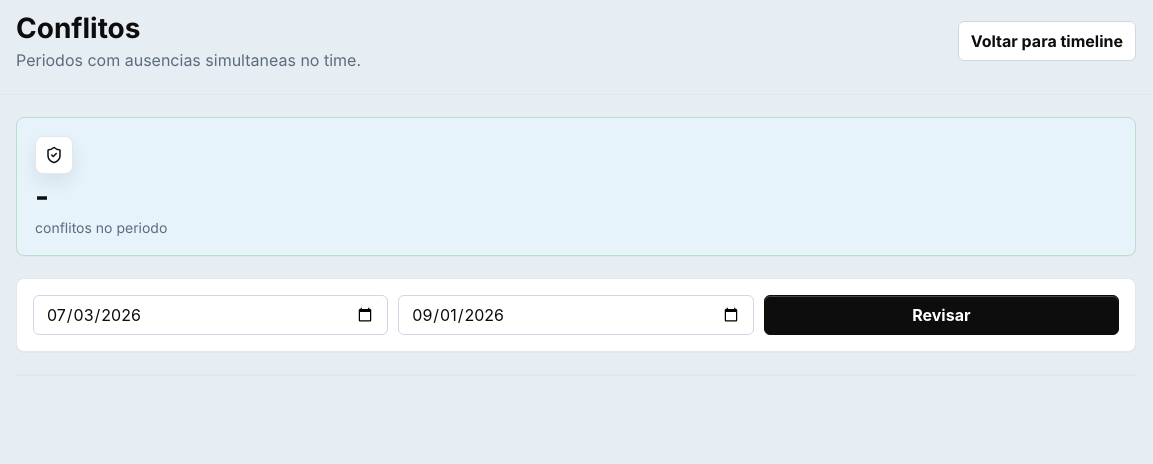
Test: conflicts flow › loads conflict summary states
Click the button "Revisar" at (941, 315), box [764,295,1119,335]
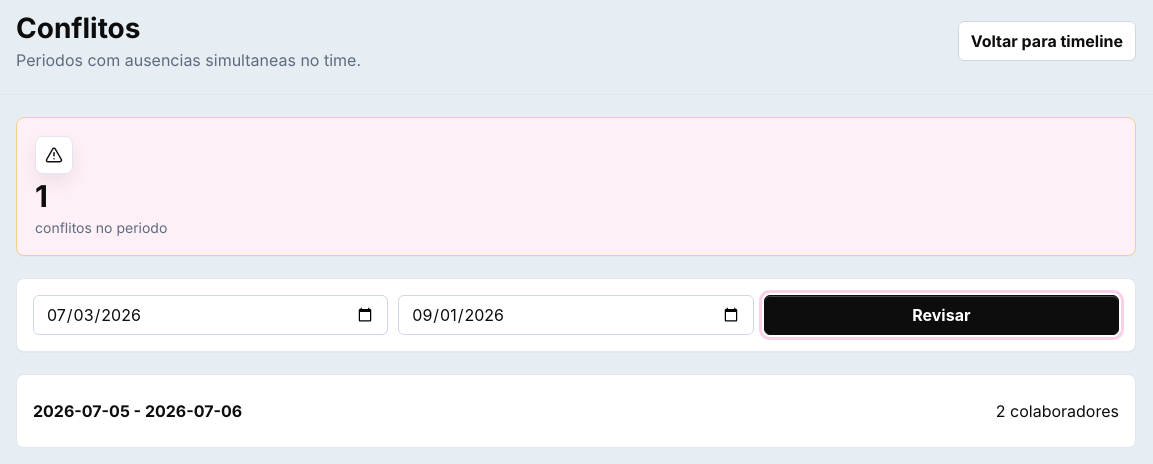
Now the text "2 colaboradores" is shown, box [996,401,1119,421]
